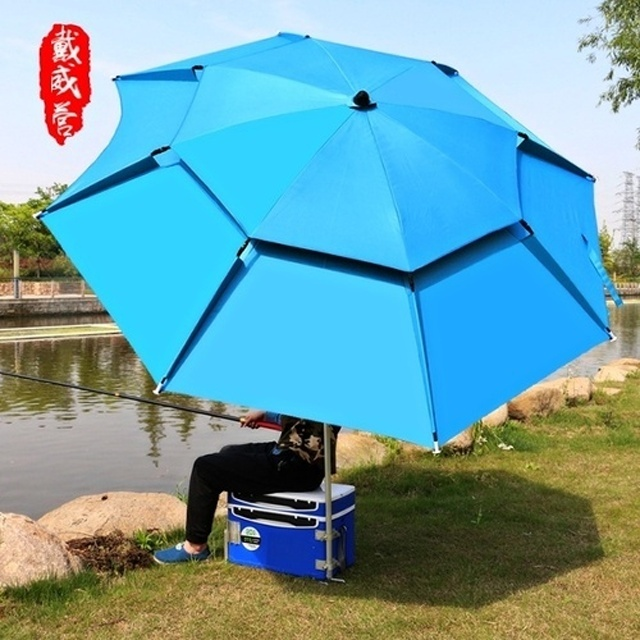umbrella: (40, 28, 616, 586)
